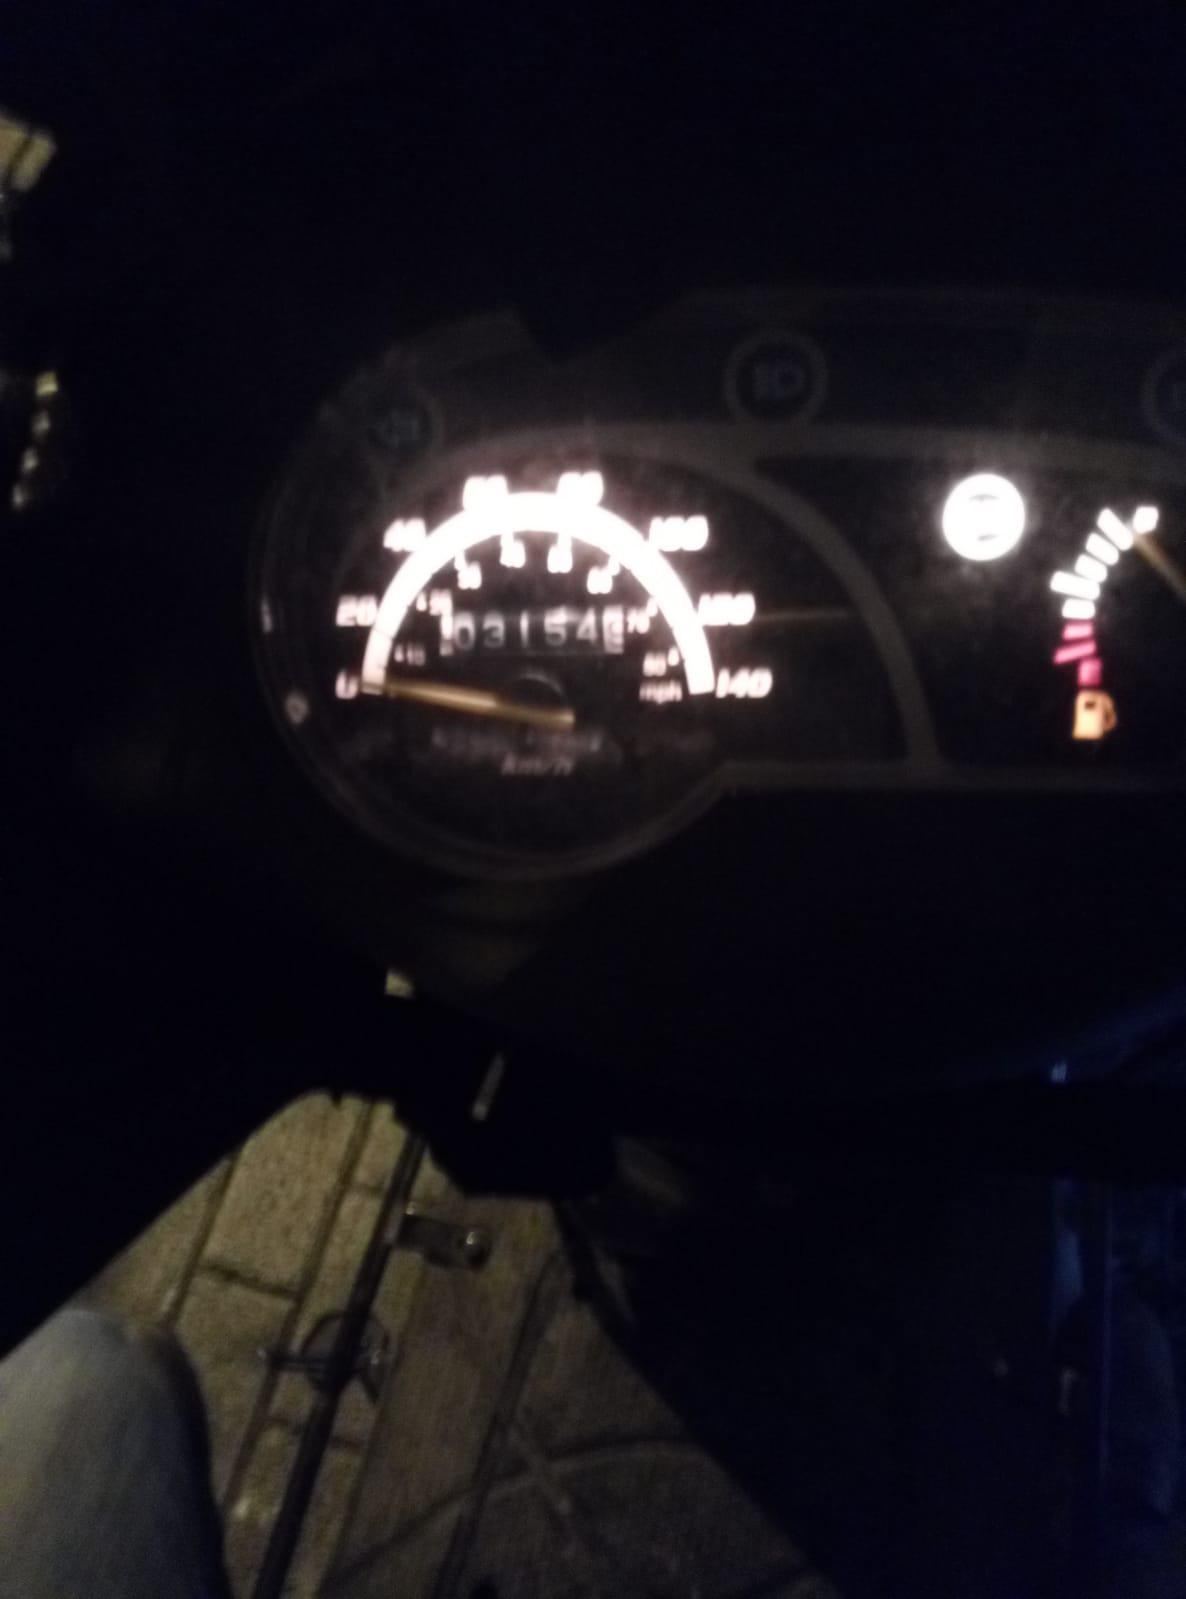0: (452, 611, 475, 653)
1: (515, 608, 533, 653)
3: (481, 611, 507, 650)
4: (574, 605, 599, 648)
5: (542, 611, 568, 648)
9: (607, 616, 625, 653)
odometer: (439, 601, 625, 660)
